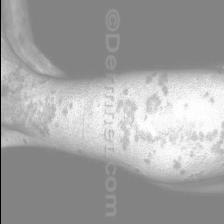Unclassified: (116, 72, 224, 170), (0, 86, 88, 149), (4, 61, 20, 97)
